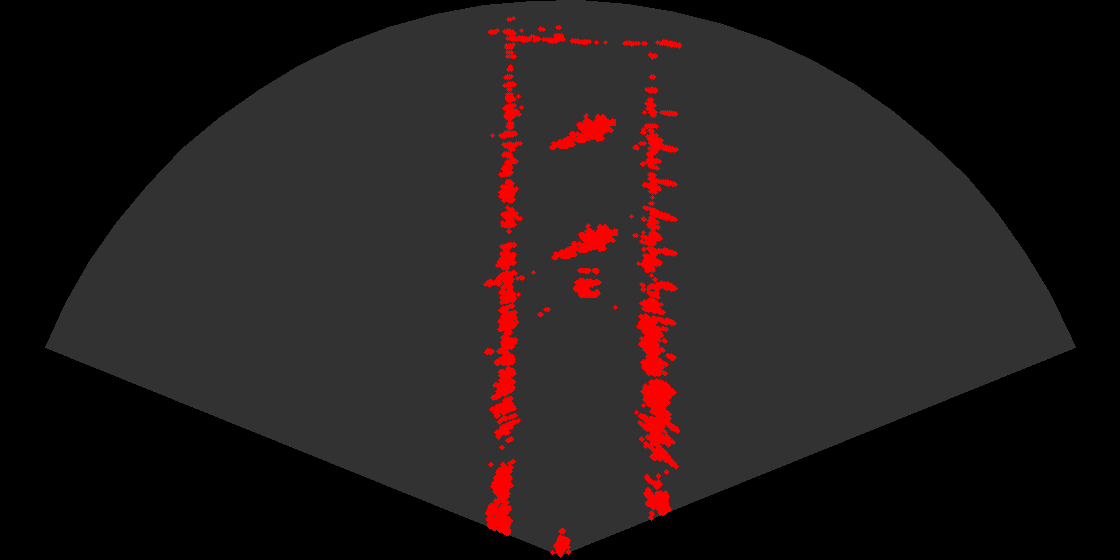ball: (553, 260, 613, 301)
frogman: (550, 217, 618, 264), (548, 107, 616, 154)
